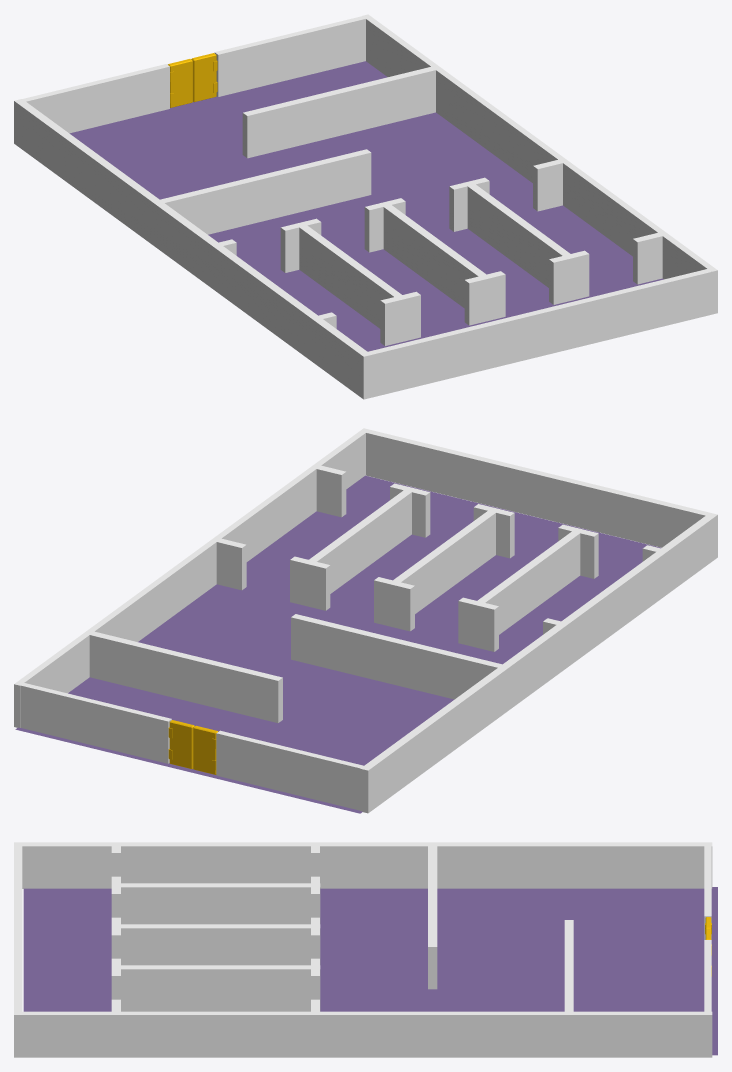
File: maps_92.fbx
3 views of the same model, one above another, from view 1: azimuth 30°, elevation 25°; view 2: azimuth 150°, elevation 25°; view 3: azimuth 270°, elevation 25° (orthographic).
Parts seen in each view (by area): view 1: wall_01_08_geo, wall_01_07_geo, wall_01_05_geo, wall_01_06_geo, wall_01_07_geo2, wall_01_07_geo1, wall_01_09_geo1, wall_01_09_geo, polySurface178, polySurface182, polySurface177, polySurface183 (+12 smaller); view 2: wall_01_08_geo, wall_01_07_geo, wall_01_05_geo, wall_01_06_geo, wall_01_07_geo2, wall_01_07_geo1, wall_01_09_geo1, wall_01_09_geo, polySurface177, polySurface182, polySurface178, polySurface183 (+12 smaller); view 3: wall_01_08_geo, wall_01_06_geo, wall_01_07_geo, polySurface178, polySurface182, polySurface177, wall_01_05_geo, wall_01_07_geo1, wall_01_07_geo2, wall_01_09_geo, wall_01_09_geo1.
Boxes of the visible parts, box(x1,y1,x2,y2) form: wall_01_08_geo: box(69, 61, 663, 351); wall_01_07_geo: box(14, 99, 371, 399); wall_01_05_geo: box(368, 269, 711, 397); wall_01_06_geo: box(362, 14, 717, 314); wall_01_07_geo2: box(242, 67, 435, 158); wall_01_07_geo1: box(160, 149, 371, 234); wall_01_09_geo1: box(214, 16, 365, 96); wall_01_09_geo: box(22, 64, 169, 133); polySurface178: box(463, 181, 575, 301); polySurface182: box(379, 201, 491, 321); polySurface177: box(295, 222, 407, 342); polySurface183: box(633, 232, 662, 284); wall_01_08_geo: box(15, 475, 660, 813); wall_01_07_geo: box(360, 512, 717, 813); wall_01_05_geo: box(366, 430, 709, 547); wall_01_06_geo: box(14, 428, 369, 727); wall_01_07_geo2: box(89, 631, 282, 722); wall_01_07_geo1: box(291, 614, 502, 699); wall_01_09_geo1: box(20, 683, 171, 763); wall_01_09_geo: box(216, 730, 363, 810); polySurface177: box(472, 528, 584, 648); polySurface182: box(388, 507, 499, 627); polySurface178: box(304, 487, 415, 607); polySurface183: box(316, 465, 346, 517); wall_01_08_geo: box(23, 887, 717, 1055); wall_01_06_geo: box(14, 1011, 712, 1057); wall_01_07_geo: box(14, 842, 712, 888); polySurface178: box(111, 965, 320, 1011); polySurface182: box(111, 924, 320, 965); polySurface177: box(111, 883, 320, 924); wall_01_05_geo: box(14, 846, 22, 1011); wall_01_07_geo1: box(428, 846, 437, 989); wall_01_07_geo2: box(564, 920, 573, 1011); wall_01_09_geo: box(704, 846, 711, 939); wall_01_09_geo1: box(704, 940, 711, 1011).
Bounding box in the file's own units: 76.85 × 8.89 × 132.
2 materials, 2 textured.
